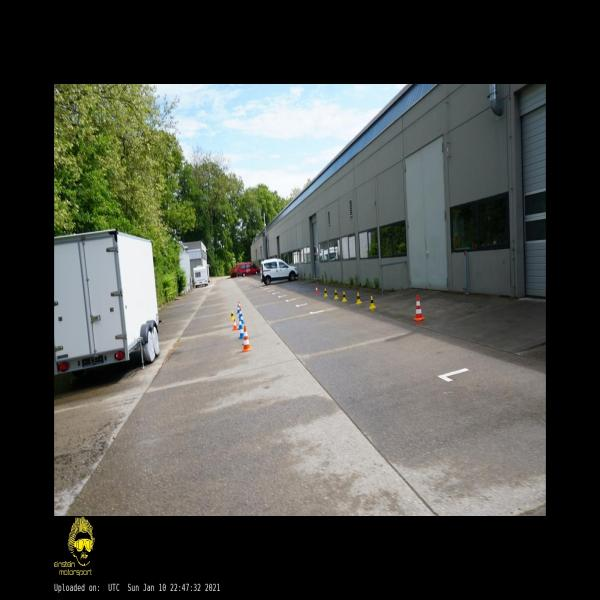blue_cone: (238, 317, 243, 329), (239, 326, 243, 338), (240, 314, 244, 324), (239, 309, 242, 317), (237, 305, 239, 313)
large_orange_cone: (412, 295, 424, 321), (242, 326, 251, 352)
orange_cone: (232, 318, 237, 331), (315, 285, 319, 293), (238, 300, 241, 308)
yellow_cone: (369, 295, 376, 310), (356, 292, 362, 304), (342, 291, 347, 302), (323, 288, 328, 298), (230, 310, 234, 320), (334, 290, 338, 300)
